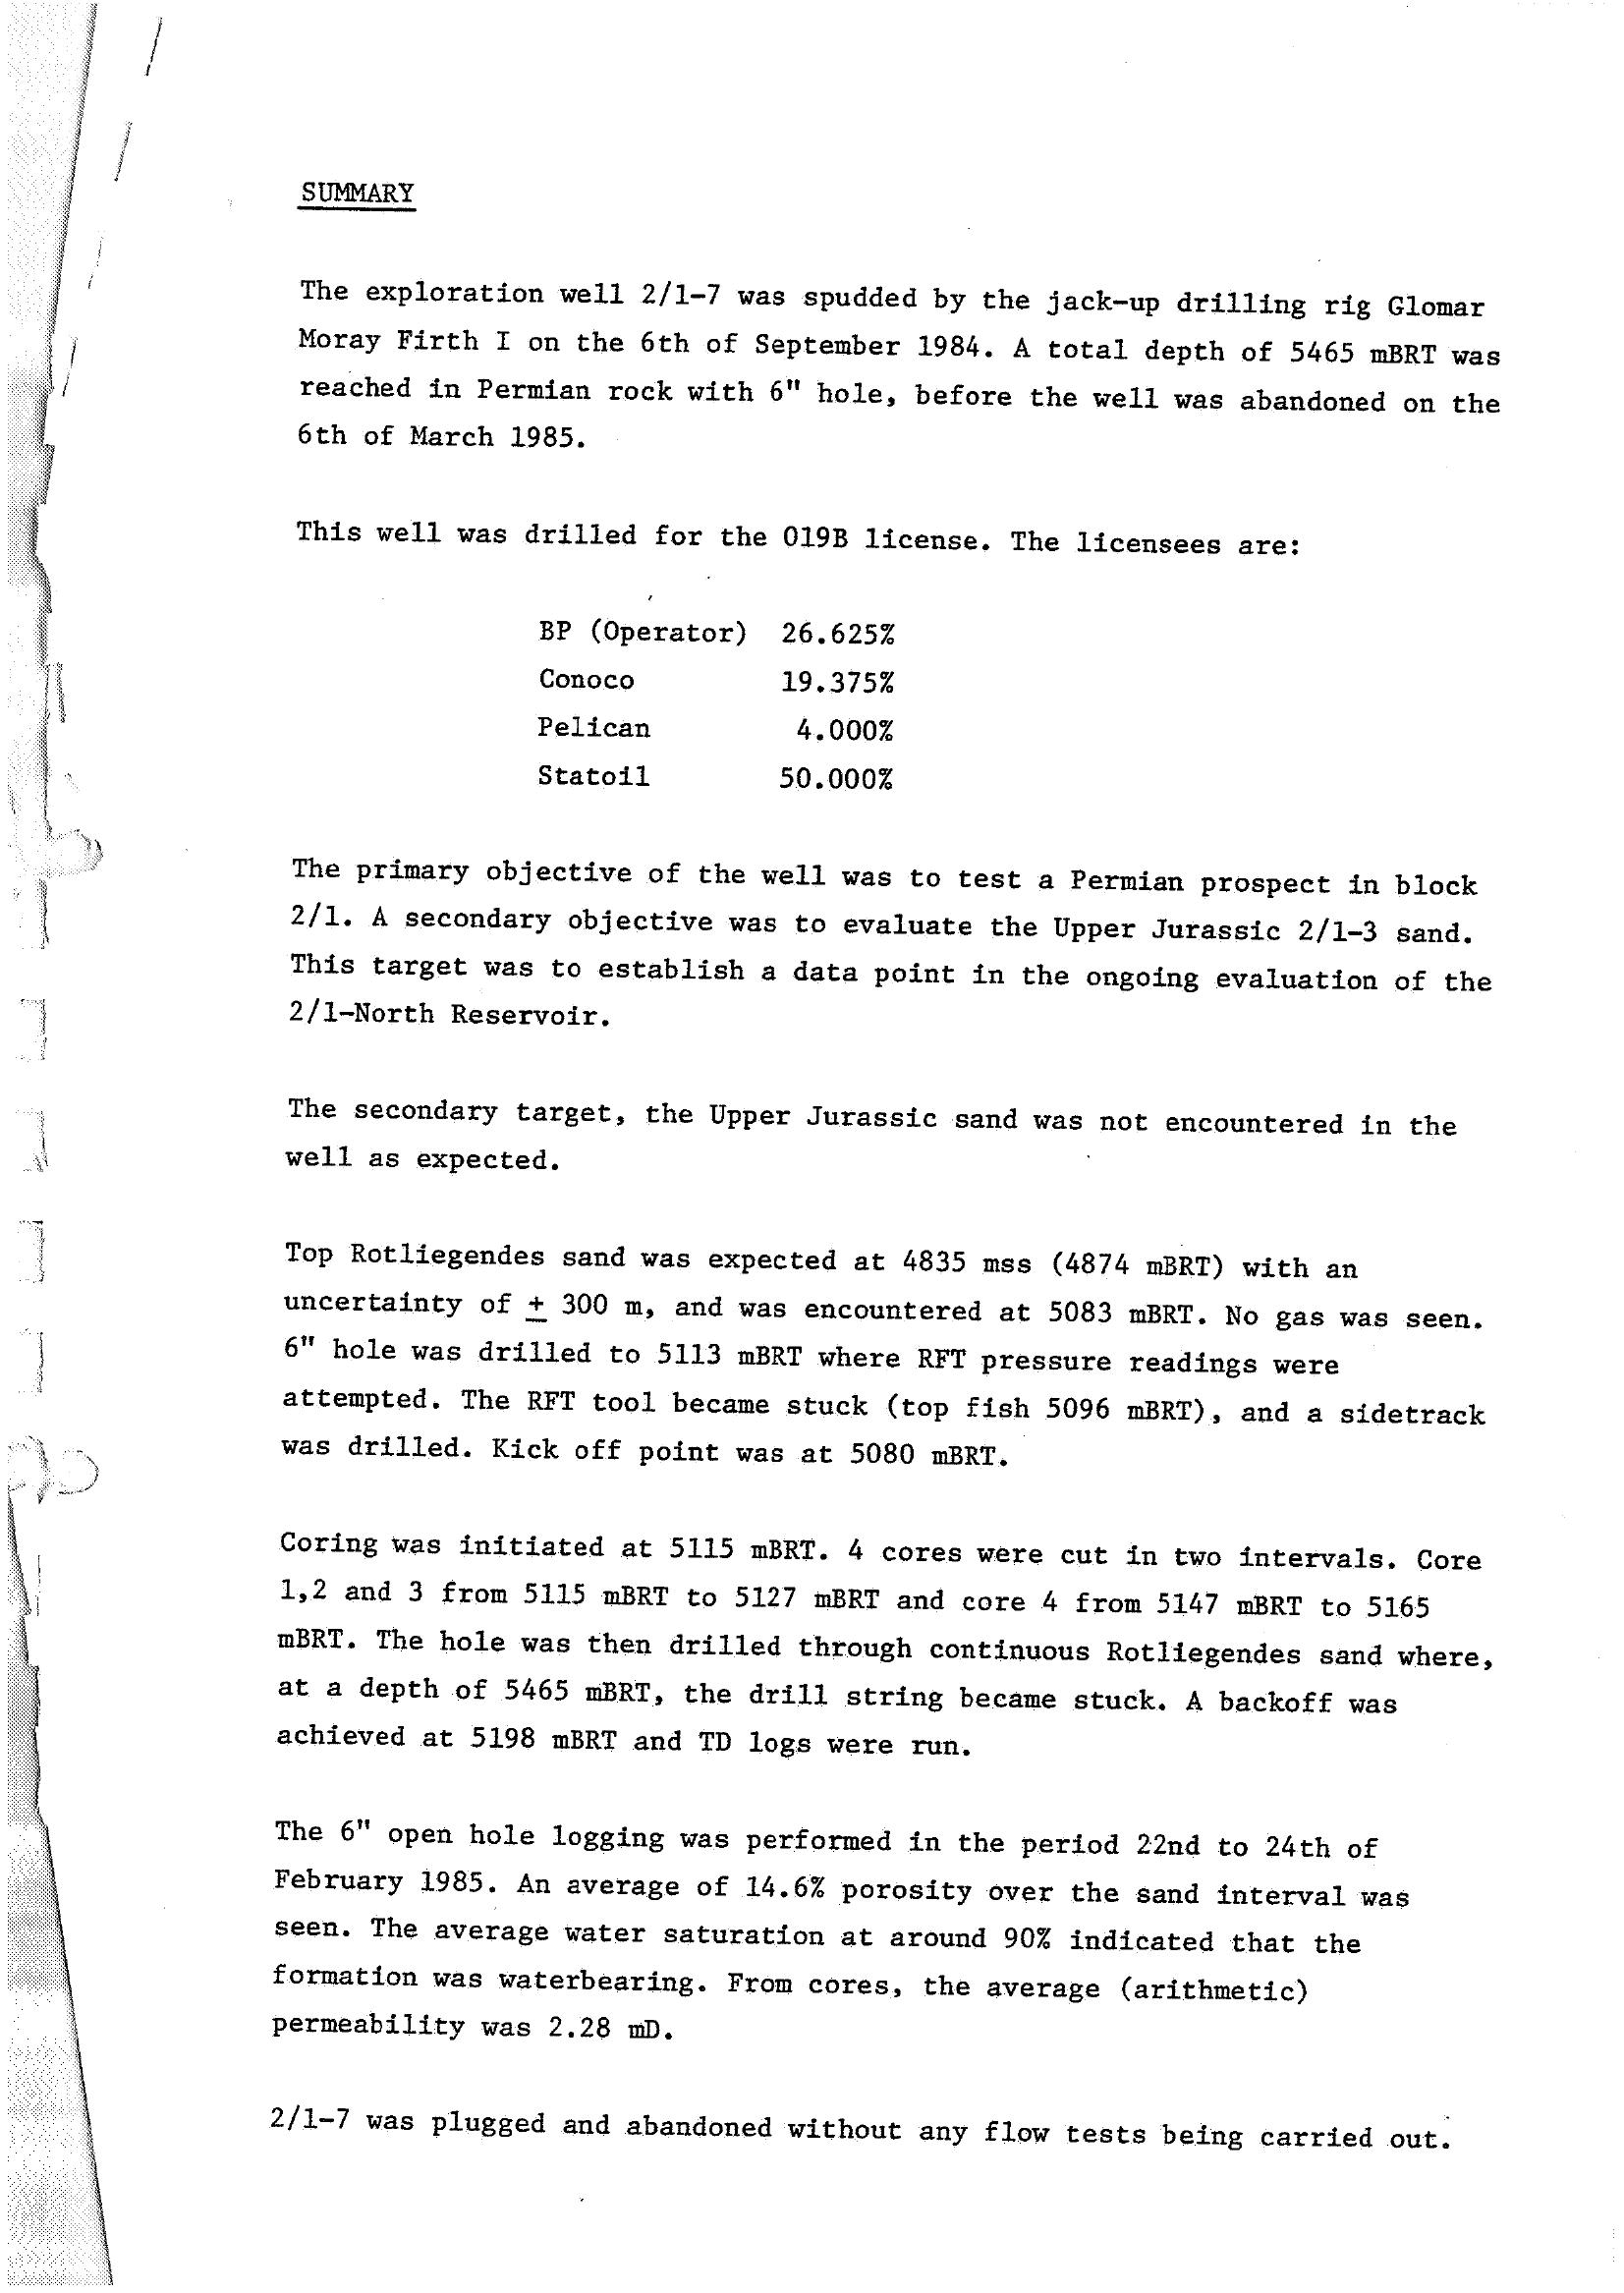text: (195, 142, 1534, 2188)
